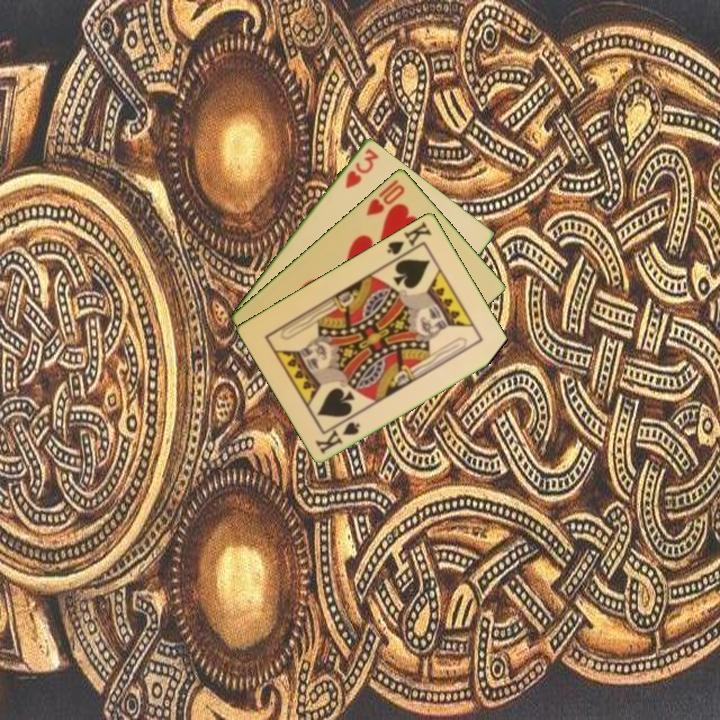10h: (362, 180, 408, 218)
3h: (341, 144, 382, 191)
Ks: (383, 217, 434, 263), (312, 418, 363, 457)
